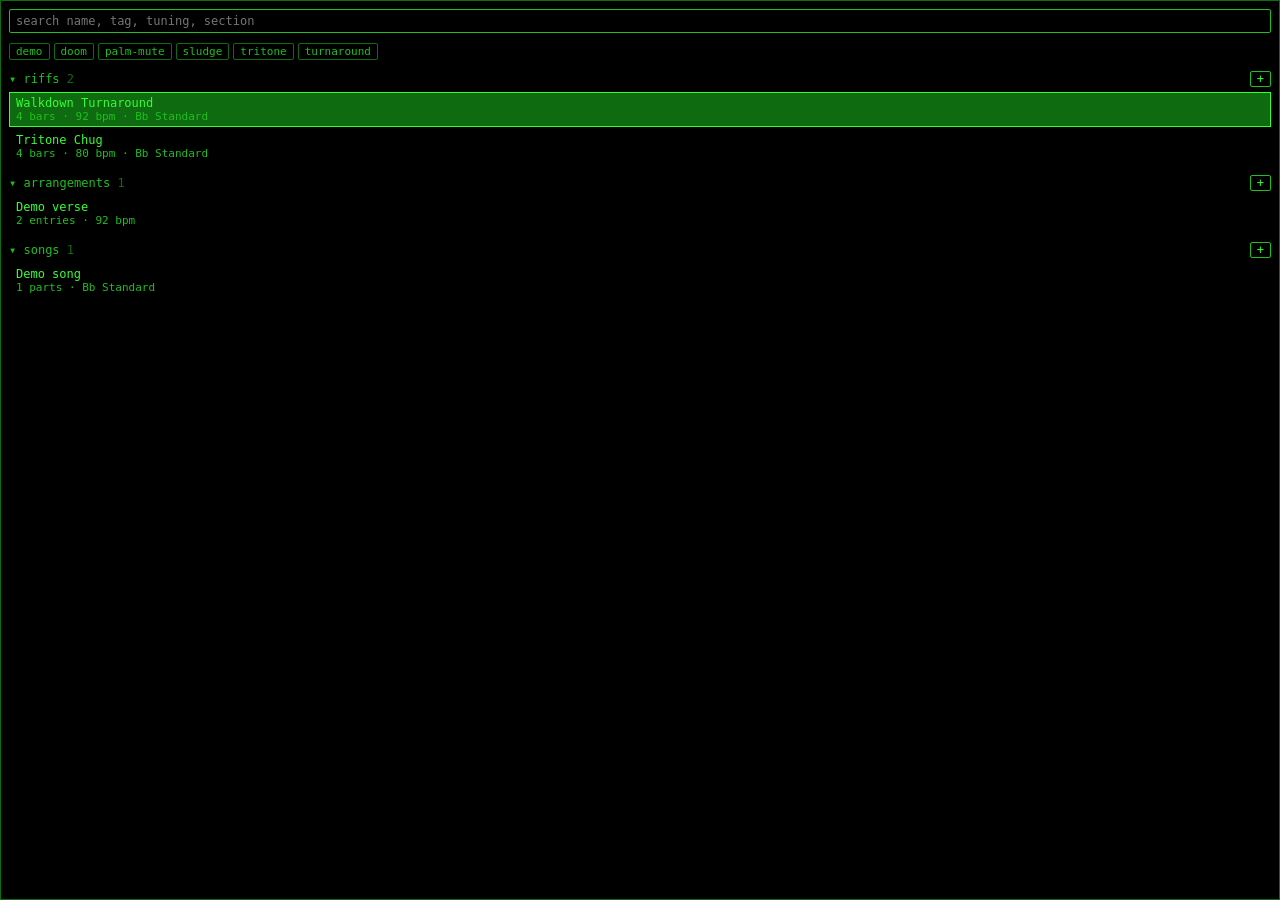
Test case: LibraryPanel › lists the three tiers, highlights the current riff, and filters by search and tag
The image size is (1280, 900).
Expected: the element with test id "library-riffs" shows "Walkdown Turnaround", [16, 96, 153, 110]
Expected: the element with test id "library-arrangements" shows "Demo verse", [16, 200, 88, 214]
Step 1. Type "turn" into the search field named "search library" → (640, 21), box [9, 9, 1271, 33]
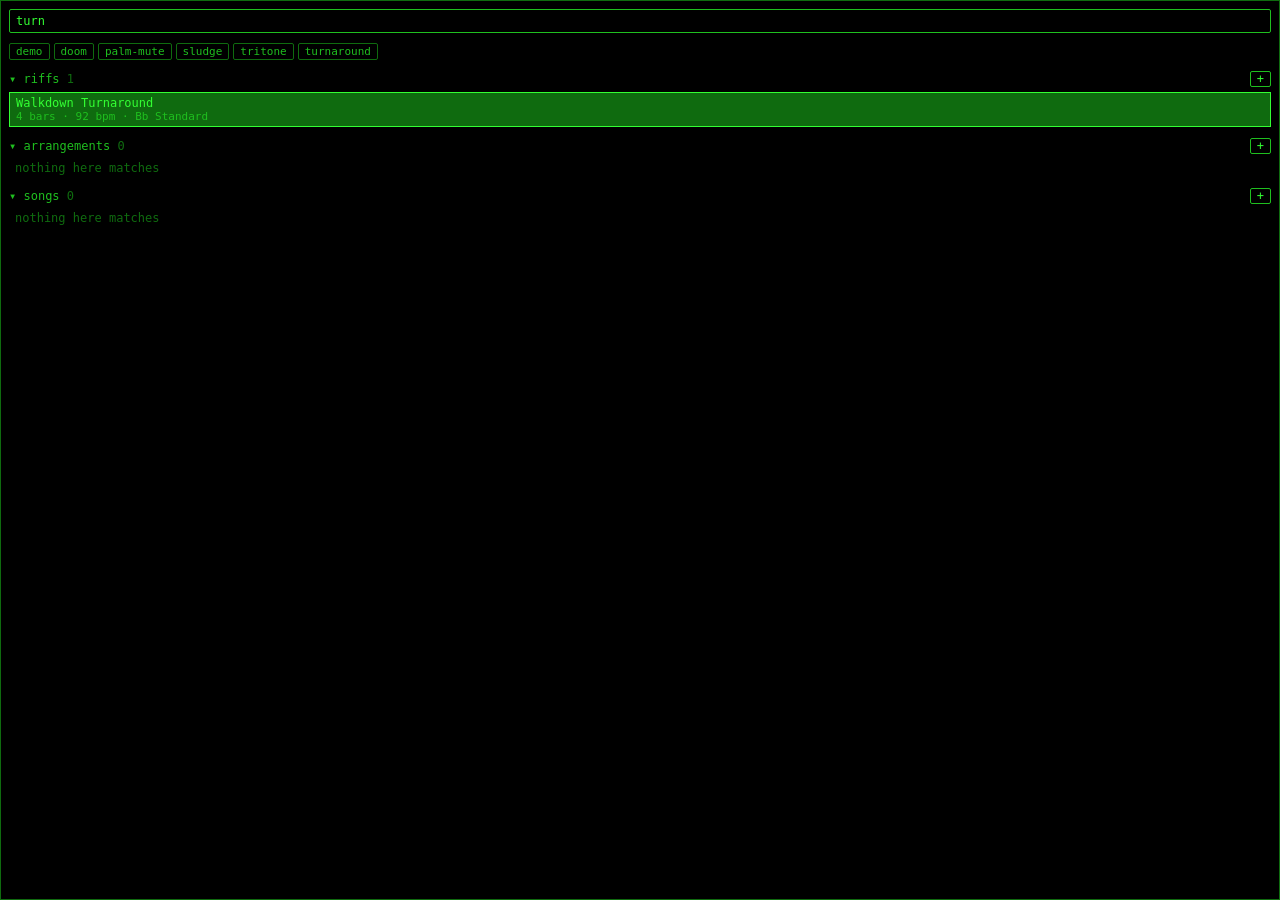
Result: the element with test id "library-riffs" no longer shows "Tritone Chug" at [9, 70, 1271, 127]
Result: the element with test id "library-arrangements" shows "nothing here matches" at [9, 137, 1271, 177]
Step 2. Clear the search field named "search library" → (640, 21), box [9, 9, 1271, 33]
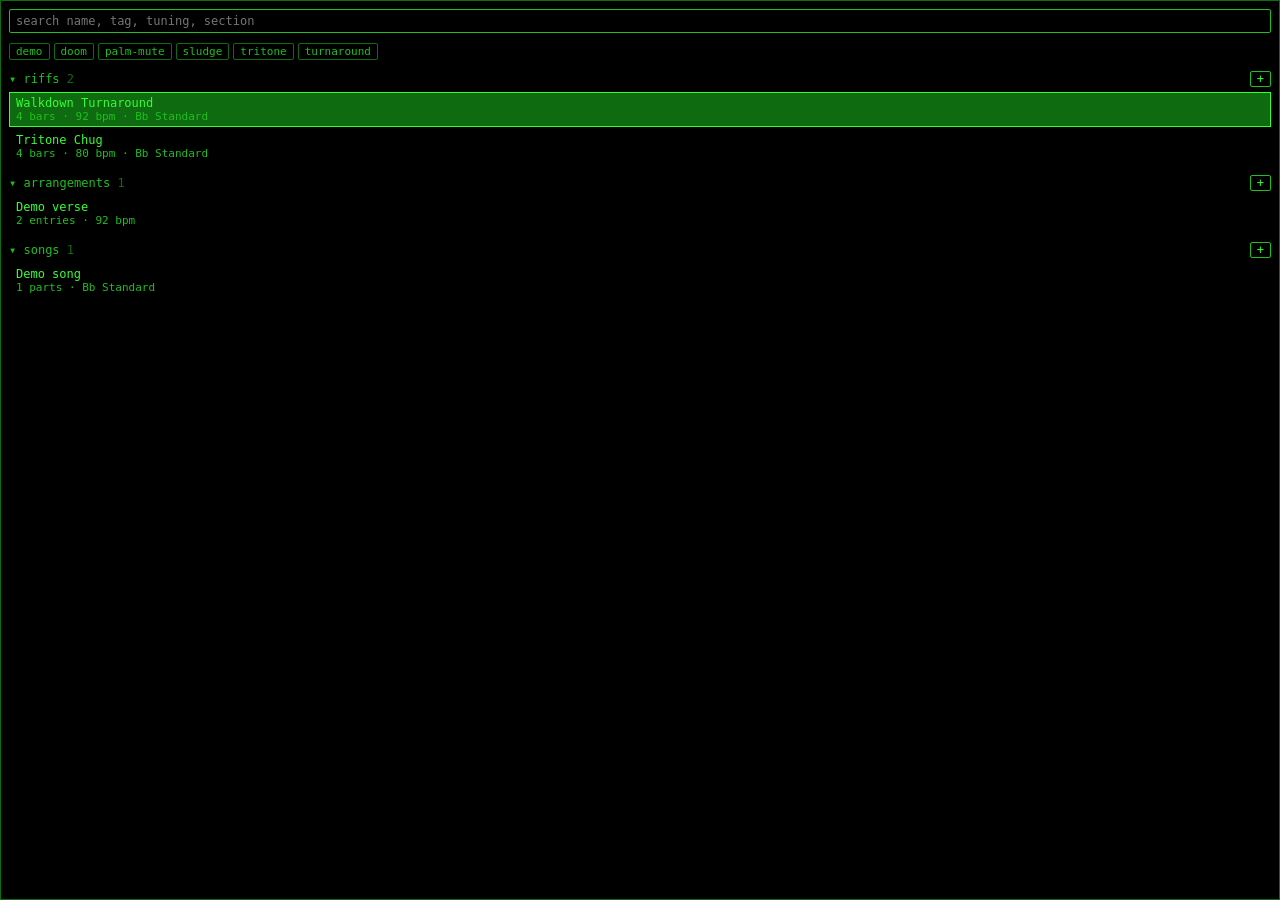
Step 3. Click the button "tritone" → (264, 52), box [233, 43, 294, 60]
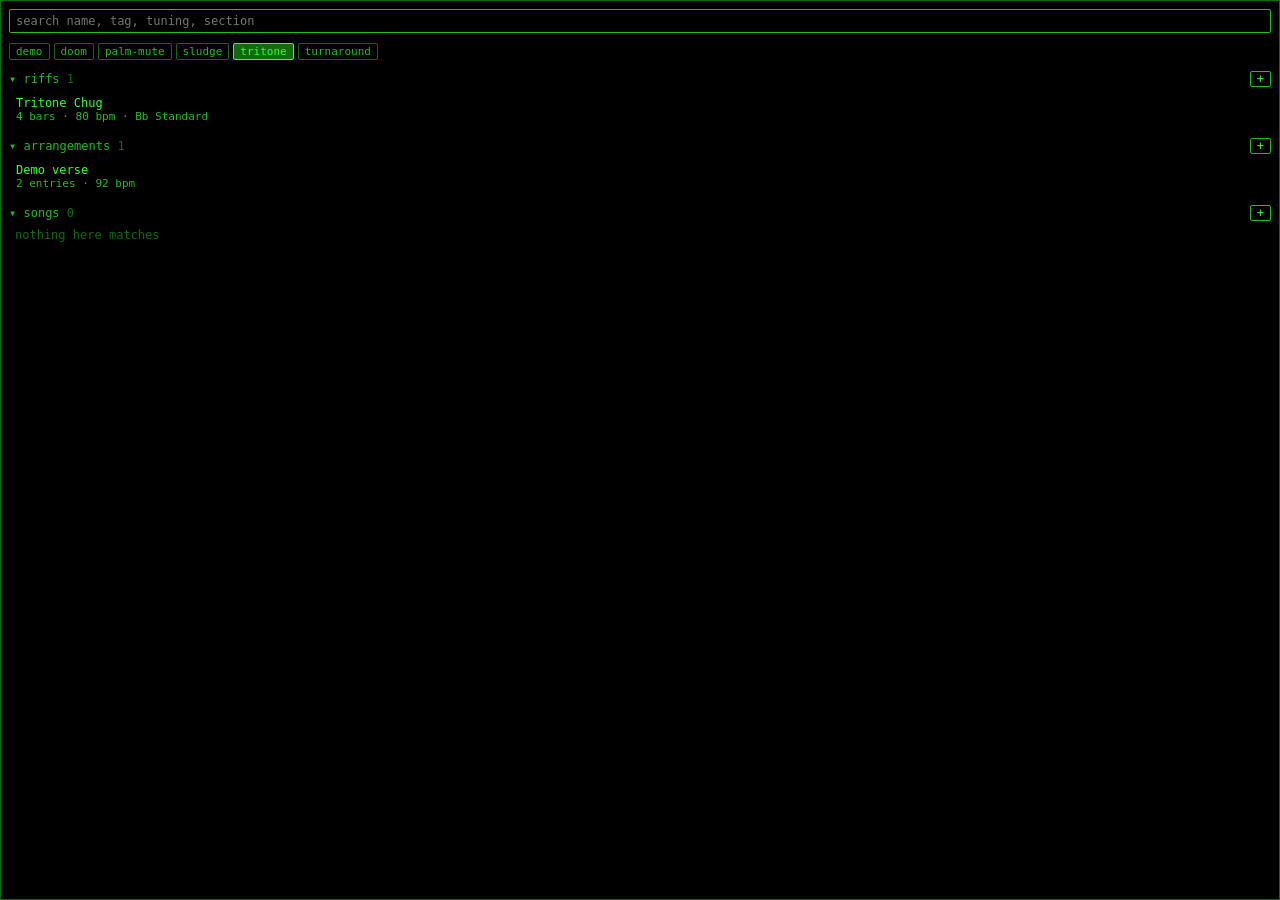
Result: the element with test id "library-riffs" shows "Tritone Chug" at [16, 96, 103, 110]
Result: the element with test id "library-riffs" no longer shows "Walkdown Turnaround" at [9, 70, 1271, 127]
